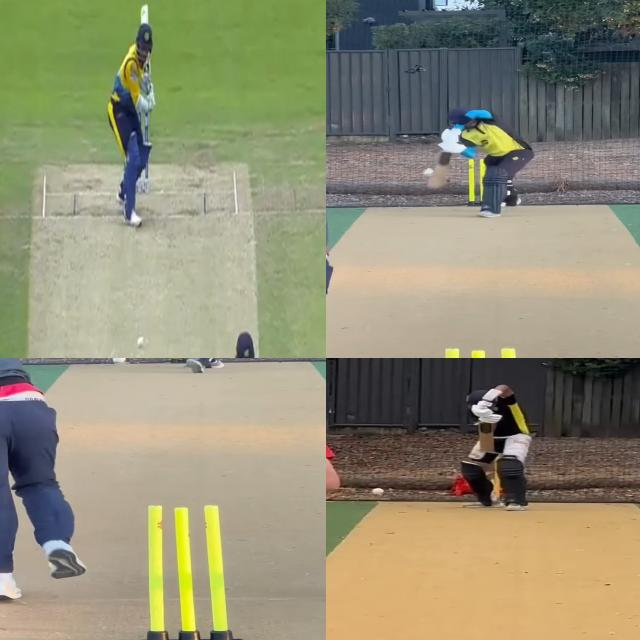Cricket ball: (137, 334, 145, 351), (111, 358, 130, 365), (370, 488, 386, 496), (422, 168, 436, 176)
Stumps: (128, 503, 245, 640)
